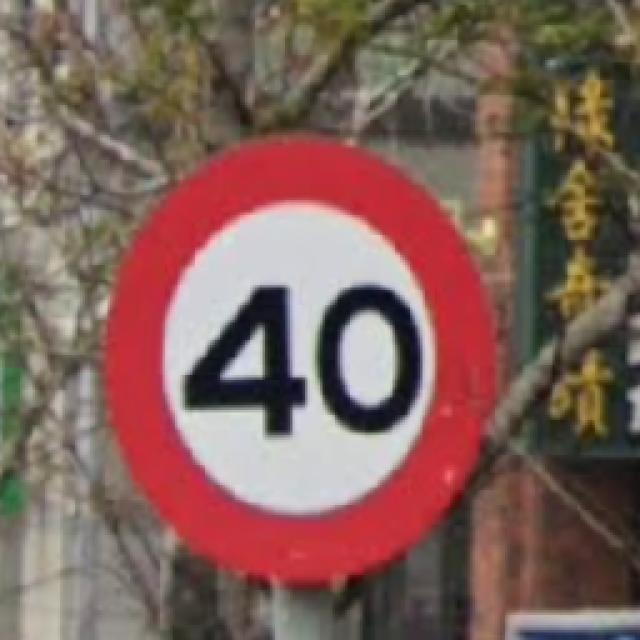Speed Limit -40-: (108, 135, 492, 588)
